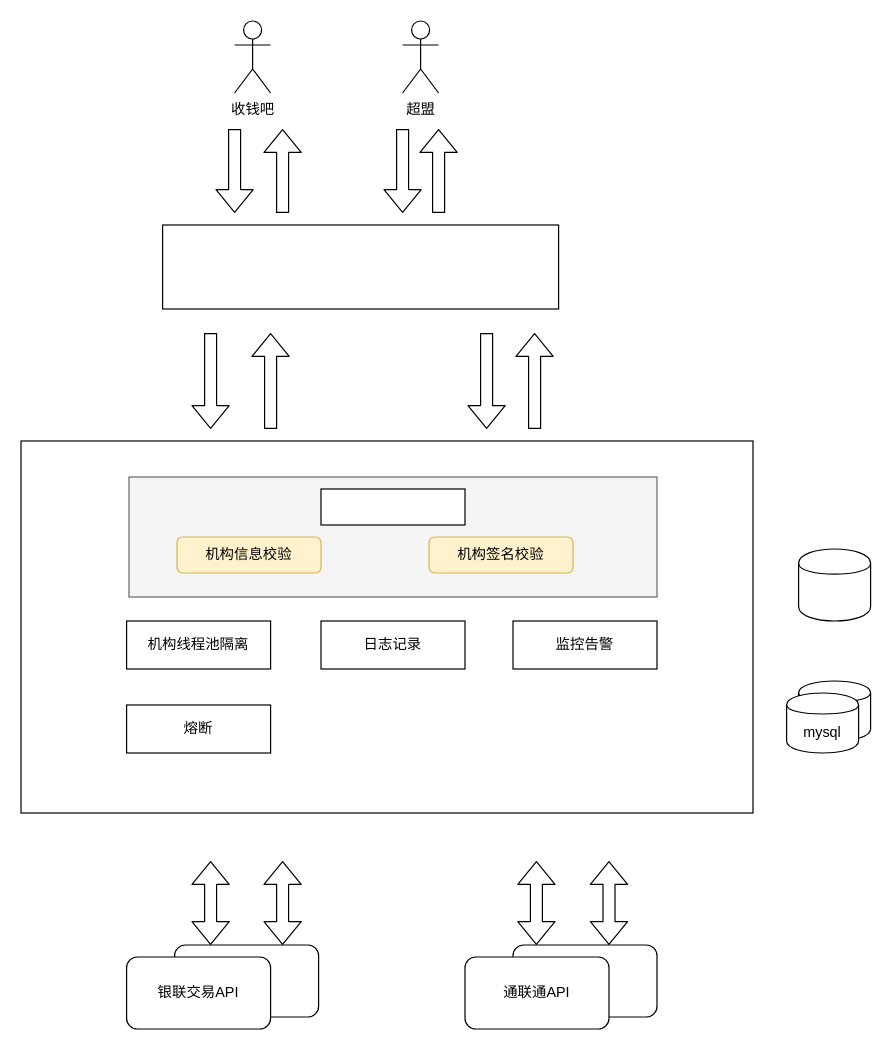
Image size: 892x1050. Some labels were removed from this diagram. The shapes that lost their labels are listed below. From the top down, each one's box as (x1, y1, x2, y2) in pixels, then its label:
(161, 224, 559, 309): 接入层F5/NGINX
(320, 488, 465, 525): 数据校验
